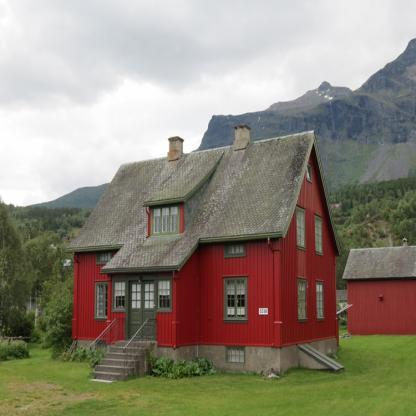Building Outline: (64, 124, 344, 375)
Dont: (149, 356, 217, 380), (63, 347, 107, 368)
Door: (126, 276, 157, 341)
Facade: (74, 233, 280, 375)
Floor: (68, 188, 298, 248), (73, 236, 280, 276)
Floor Slab: (73, 232, 281, 252), (97, 184, 300, 204), (74, 268, 280, 278)
Ground Floor: (73, 271, 280, 347)
Roof: (64, 131, 343, 273)
Top Floor: (98, 142, 311, 202)
Window: (223, 277, 248, 322), (150, 205, 180, 236), (94, 282, 109, 320), (112, 278, 127, 313), (157, 277, 172, 312), (224, 242, 246, 259), (226, 345, 245, 364), (97, 251, 113, 265)
